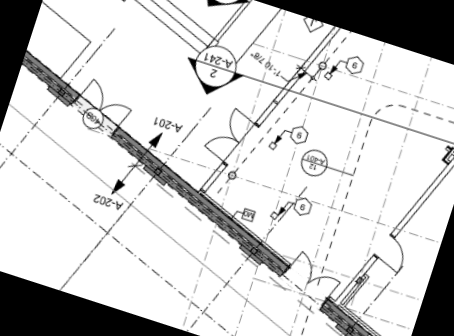door: (366, 231, 413, 278)
double door: (68, 73, 140, 146), (276, 246, 348, 313), (199, 100, 261, 169)
wall: (81, 109, 321, 284), (13, 31, 95, 111), (308, 290, 377, 336)
